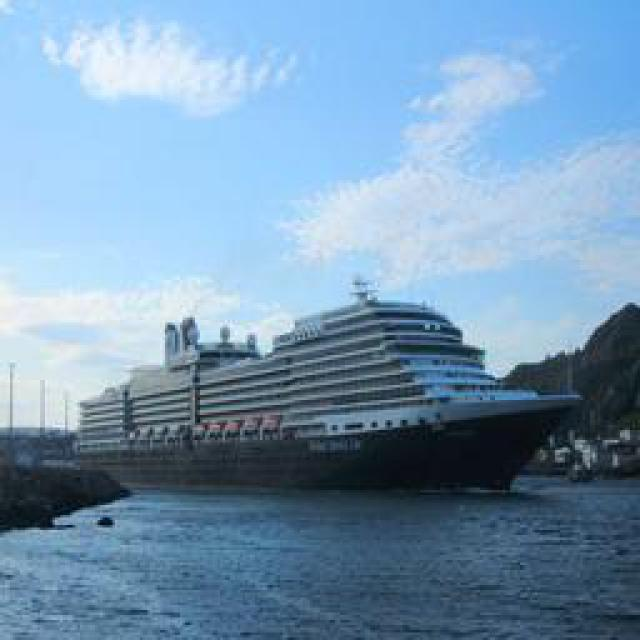Ship: (43, 288, 588, 493)
